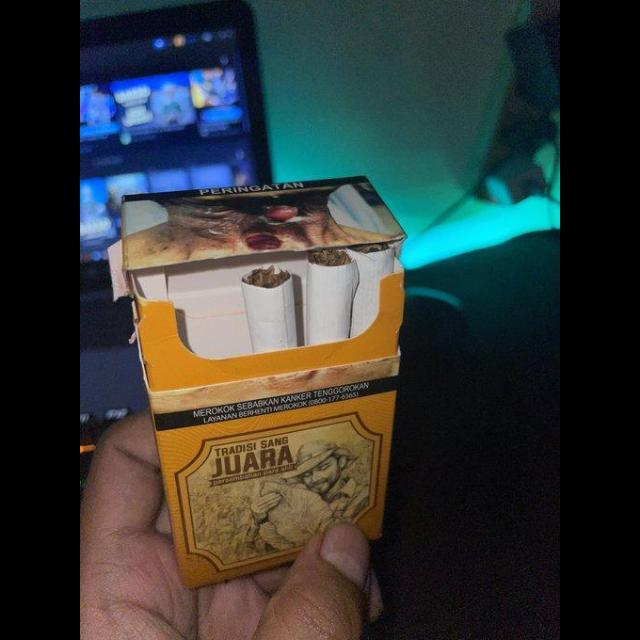rokok: (238, 264, 302, 352), (304, 249, 354, 341)
